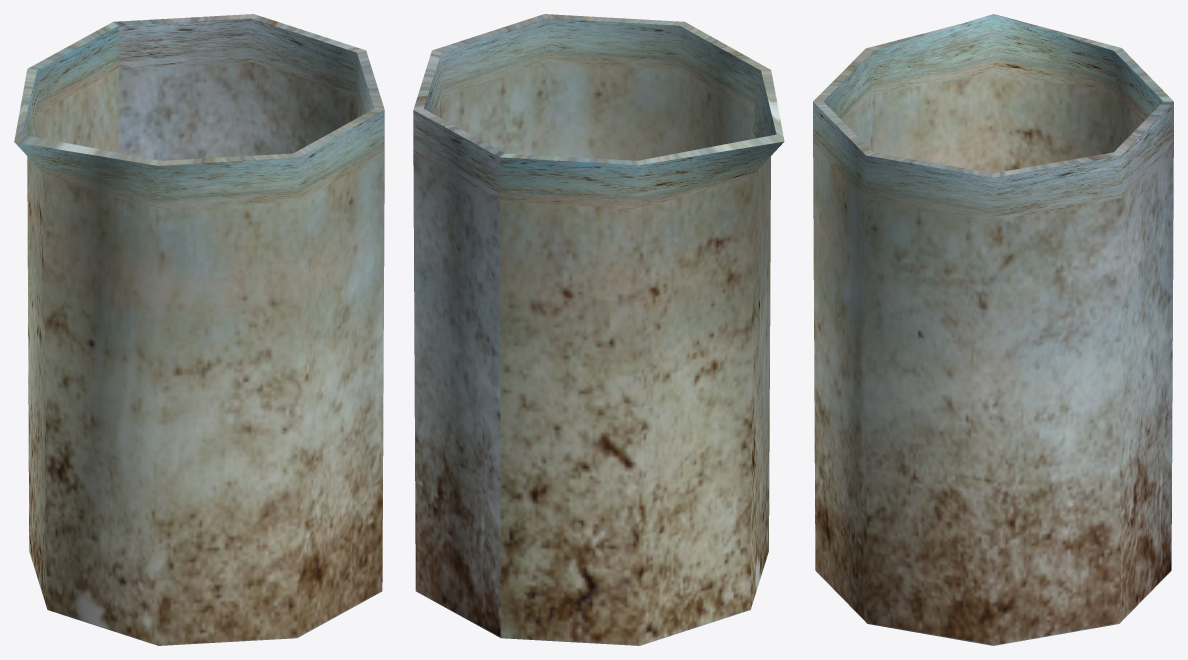
The model's file is beaker.FBX.
3 renders of one model, left to right at view 1: azimuth 30°, elevation 25°; view 2: azimuth 150°, elevation 25°; view 3: azimuth 270°, elevation 25°, orthographic. The views are drawn at different scales.
Visible parts, largest first — view 1: beaker; view 2: beaker; view 3: beaker.
Boxes of the visible parts, x1=… form: beaker: x1=14, y1=14, x2=384, y2=645; beaker: x1=413, y1=14, x2=784, y2=645; beaker: x1=813, y1=14, x2=1173, y2=645.
Size of the model in its own units: 20.56 by 26.86 by 18.72.
